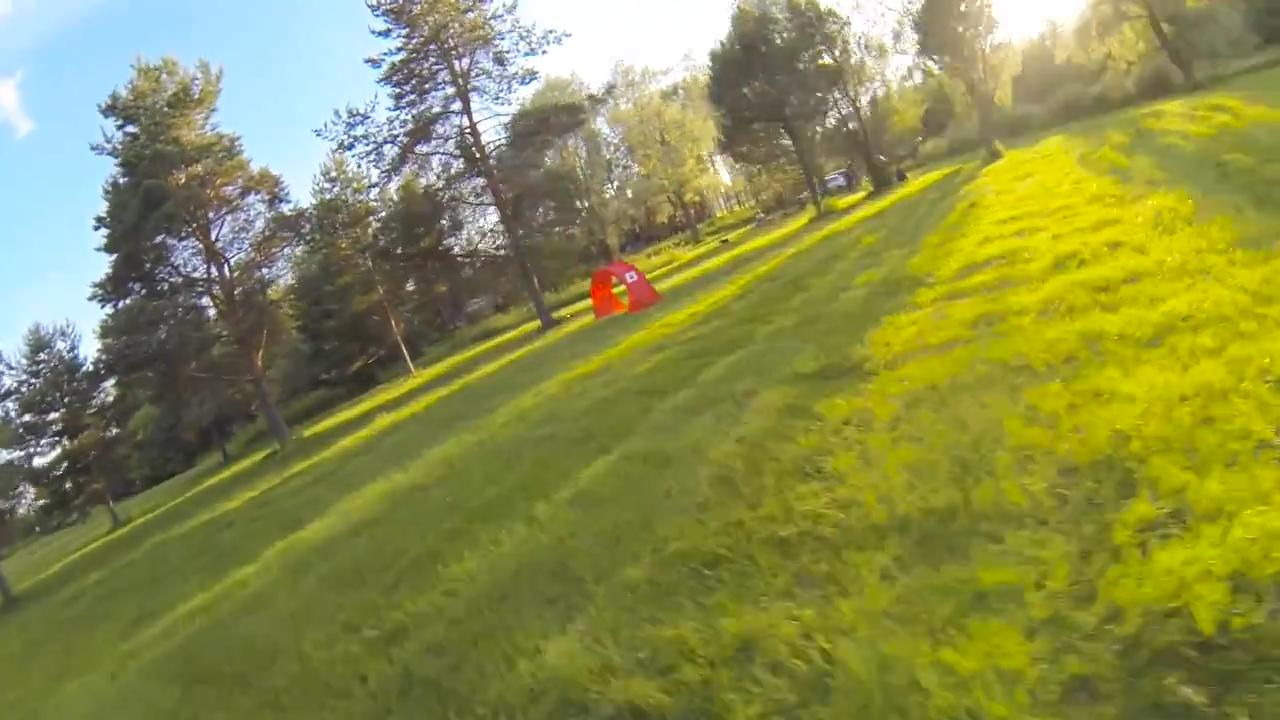gate: (581, 260, 666, 320)
